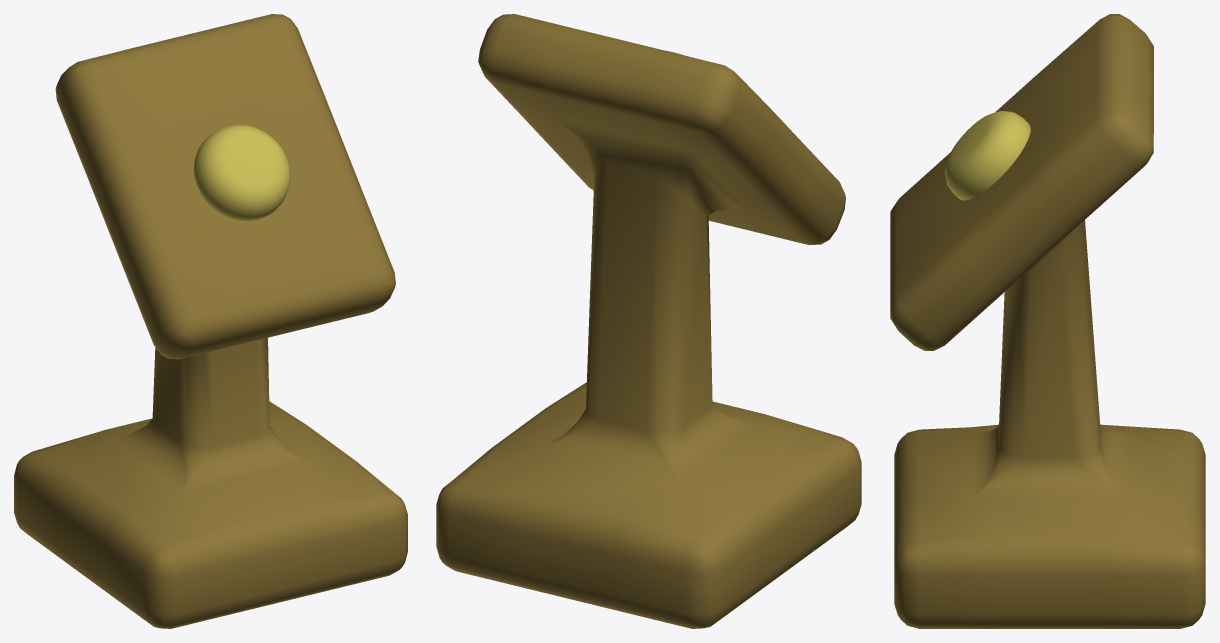
The model's file is pedestal.fbx.
3 views of the same model, side by side, from view 1: azimuth 30°, elevation 25°; view 2: azimuth 150°, elevation 25°; view 3: azimuth 270°, elevation 25° (orthographic). The views are drawn at different scales.
Parts seen in each view (by area): view 1: Pedestal, button; view 2: Pedestal; view 3: Pedestal, button.
Part boxes in pixels (x1,y1,x2,y2): Pedestal: (14, 14, 407, 628); button: (193, 124, 290, 221); Pedestal: (436, 14, 861, 628); Pedestal: (890, 14, 1205, 628); button: (944, 111, 1030, 200).
Bounding box in the file's own units: 124 × 223 × 125.
